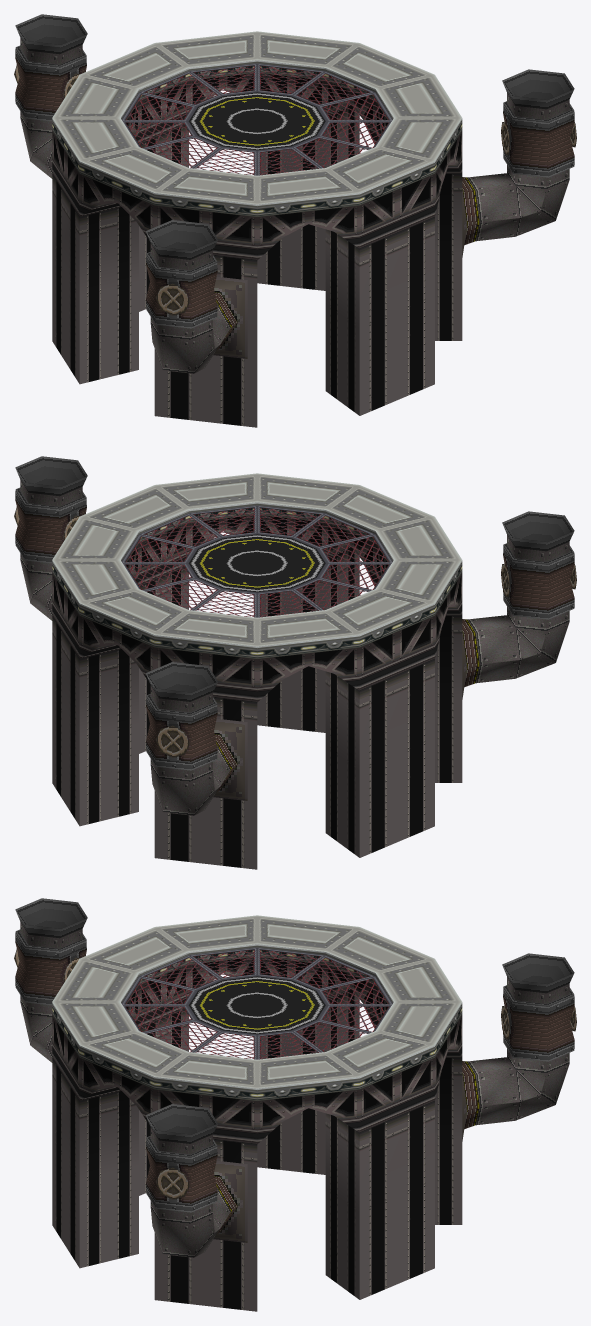
File: Machine labyriny boss.obj
The picture shows the model from 3 angles, top to bottom: view 1: azimuth 30°, elevation 25°; view 2: azimuth 150°, elevation 25°; view 3: azimuth 270°, elevation 25°; orthographic projection.
Parts seen in each view (by area): view 1: polygon6, polygon5, polygon10, polygon1, polygon0, polygon8, polygon11, polygon9, polygon2, polygon4, polygon7, polygon3; view 2: polygon6, polygon5, polygon10, polygon1, polygon0, polygon8, polygon11, polygon9, polygon2, polygon4, polygon7, polygon3; view 3: polygon6, polygon5, polygon10, polygon1, polygon0, polygon8, polygon11, polygon9, polygon2, polygon4, polygon7, polygon3.
Boxes of the visible parts, x1,y1,x2,y2 form: polygon6: (52, 105, 462, 427); polygon5: (52, 31, 462, 217); polygon10: (20, 38, 569, 373); polygon1: (121, 63, 392, 175); polygon0: (52, 73, 434, 260); polygon8: (15, 48, 574, 328); polygon11: (79, 73, 462, 259); polygon9: (15, 14, 574, 272); polygon2: (188, 92, 325, 150); polygon4: (213, 190, 467, 358); polygon7: (14, 64, 576, 315); polygon3: (214, 177, 479, 350); polygon6: (52, 547, 462, 869); polygon5: (52, 473, 462, 659); polygon10: (20, 480, 569, 815); polygon1: (121, 505, 392, 617); polygon0: (52, 515, 434, 702); polygon8: (15, 490, 574, 770); polygon11: (79, 515, 462, 701); polygon9: (15, 456, 574, 714); polygon2: (188, 534, 325, 592); polygon4: (213, 632, 467, 800); polygon7: (14, 506, 576, 757); polygon3: (214, 619, 479, 792); polygon6: (52, 989, 462, 1311); polygon5: (52, 915, 462, 1101); polygon10: (20, 922, 569, 1257); polygon1: (121, 947, 392, 1059); polygon0: (52, 957, 434, 1144); polygon8: (15, 932, 574, 1212); polygon11: (79, 957, 462, 1143); polygon9: (15, 898, 574, 1156); polygon2: (188, 976, 325, 1034); polygon4: (213, 1074, 467, 1242); polygon7: (14, 948, 576, 1199); polygon3: (214, 1061, 479, 1234).
Bounding box in the file's own units: 8.58 × 3.78 × 8.58.
Materials: 12 (12 with a texture image).
